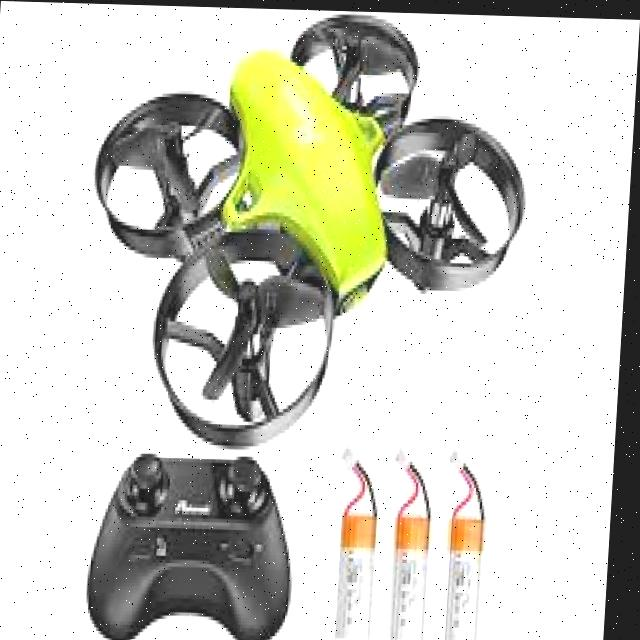drone: (51, 2, 571, 457)
